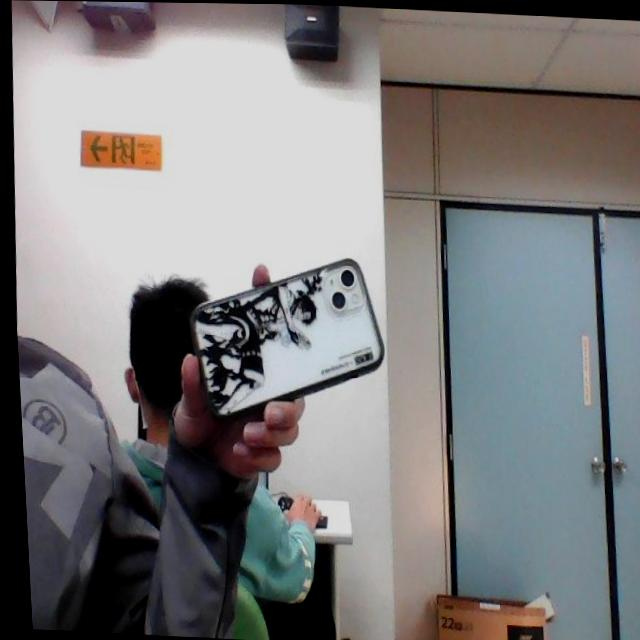Smartphone: (173, 238, 405, 440)
